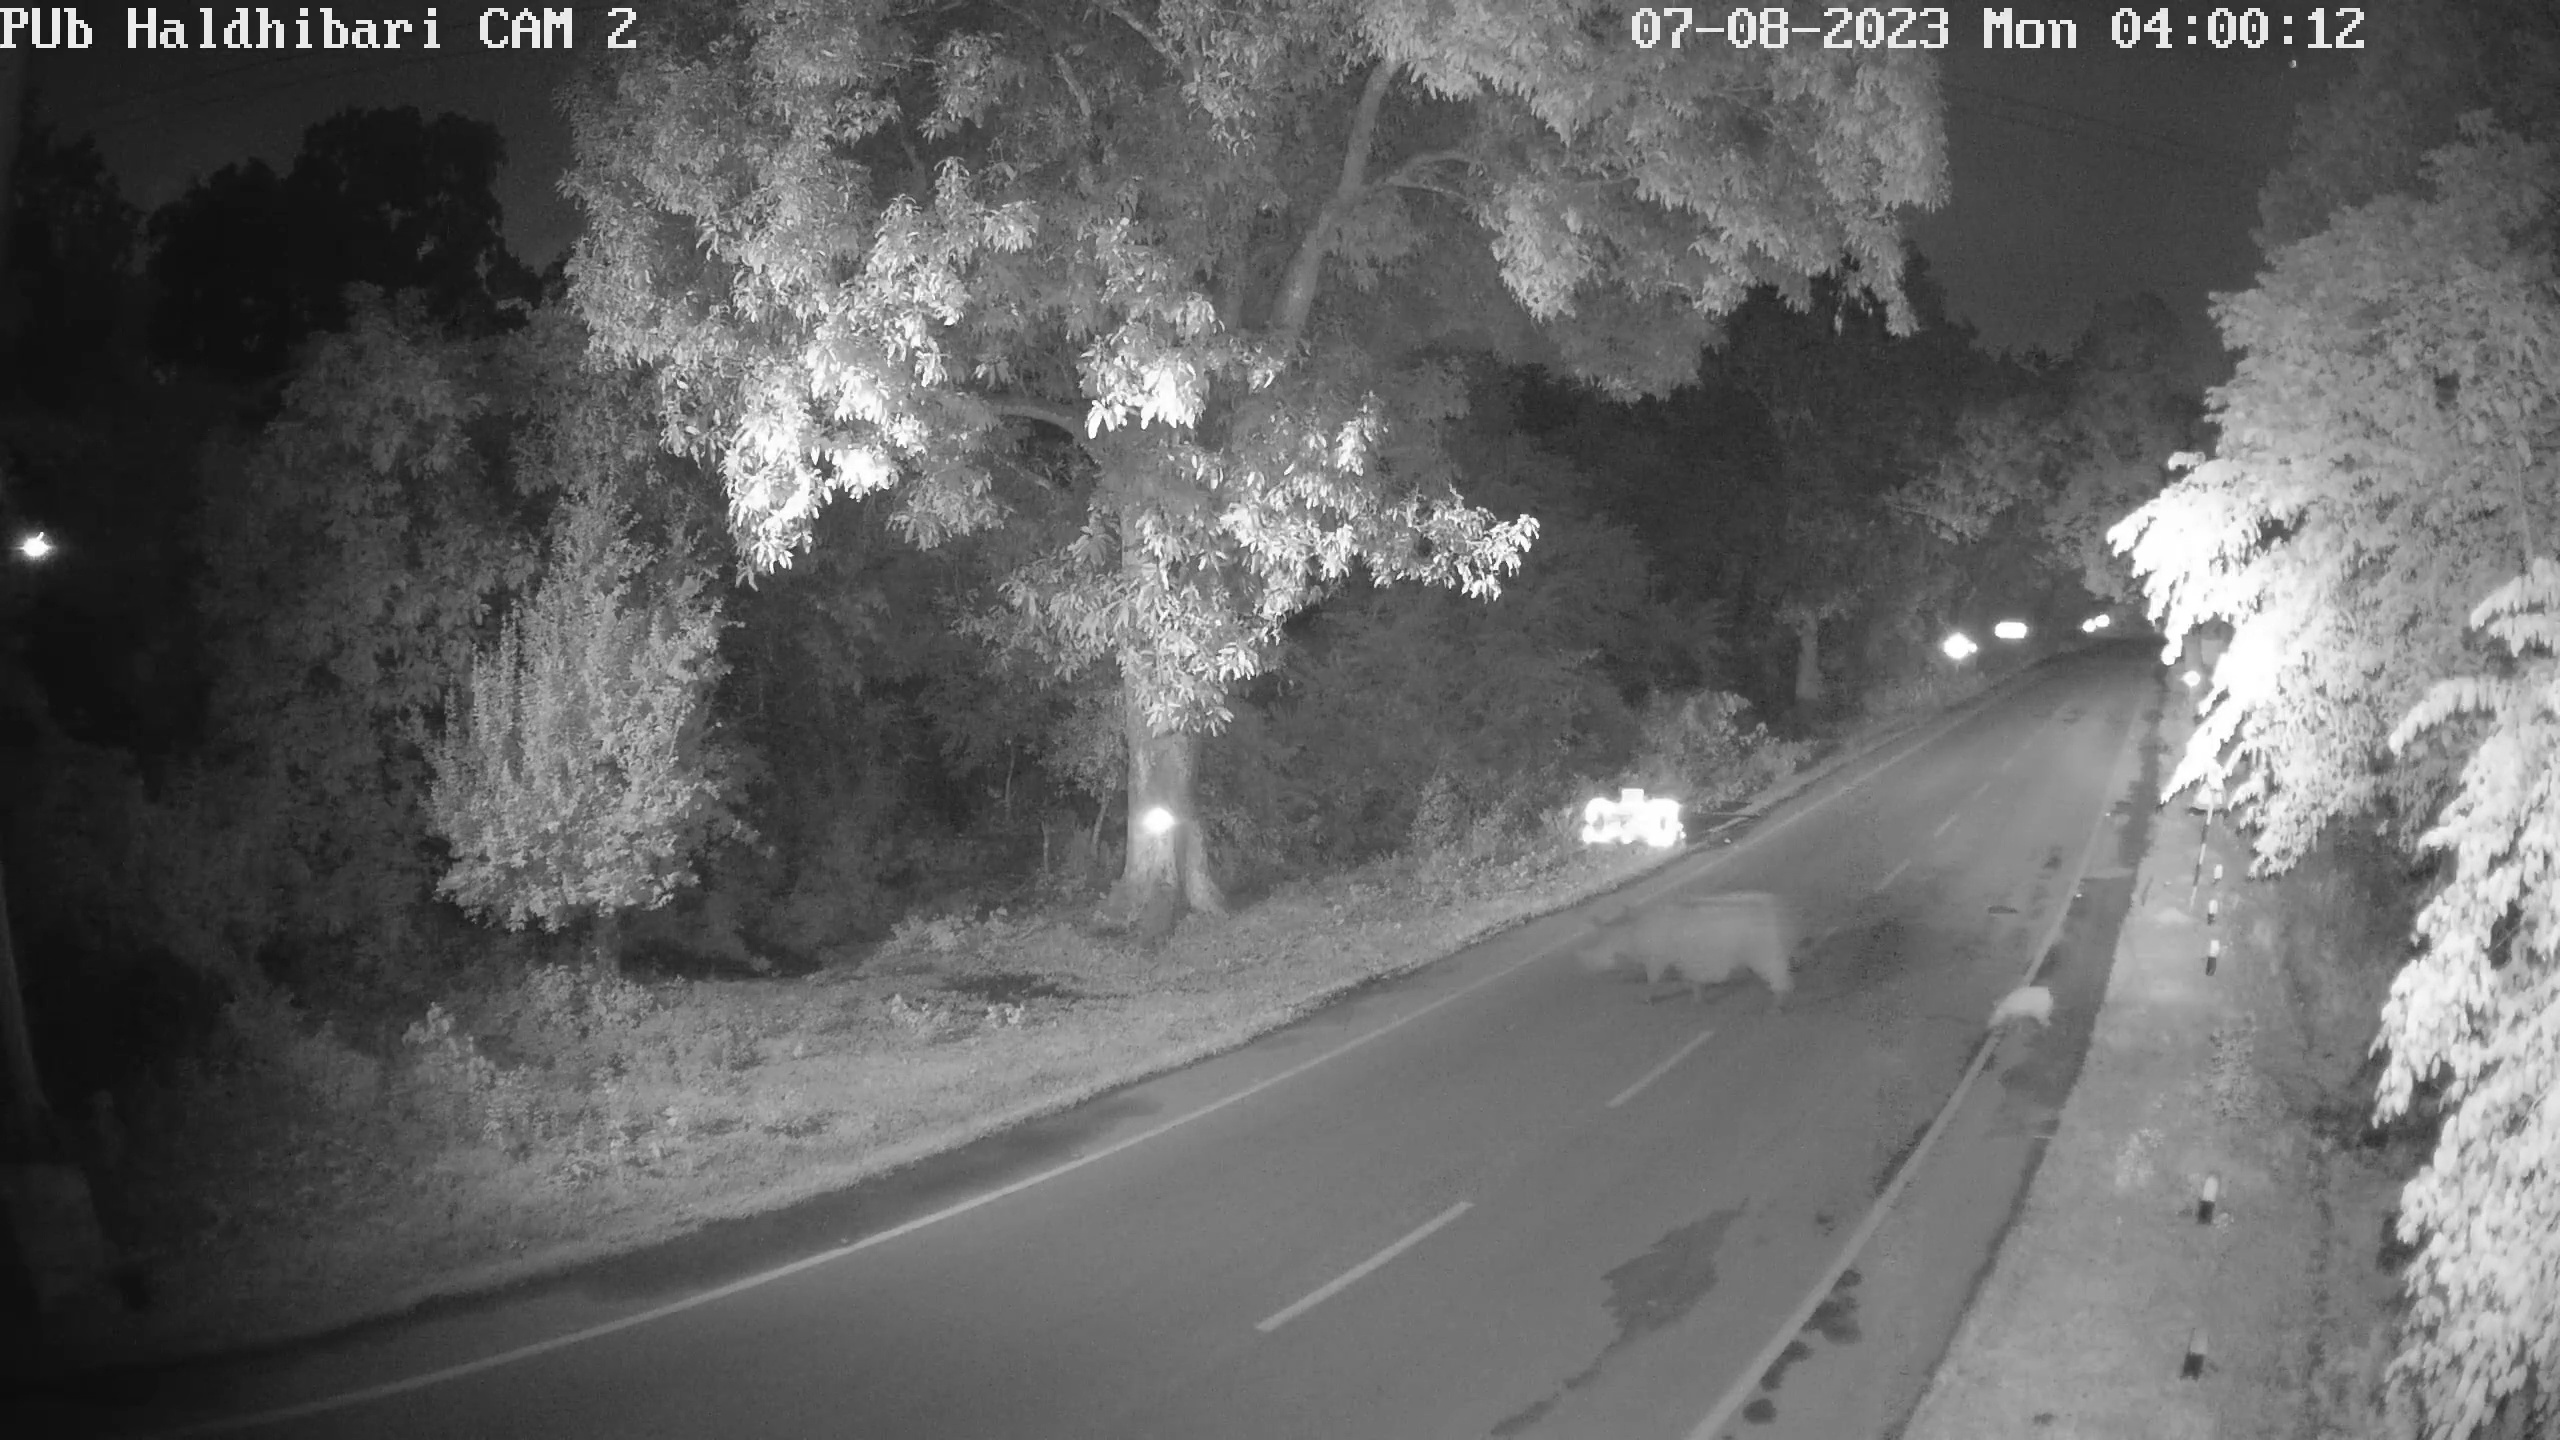rhinos: (1556, 897, 1802, 999), (1962, 967, 2069, 1043)
